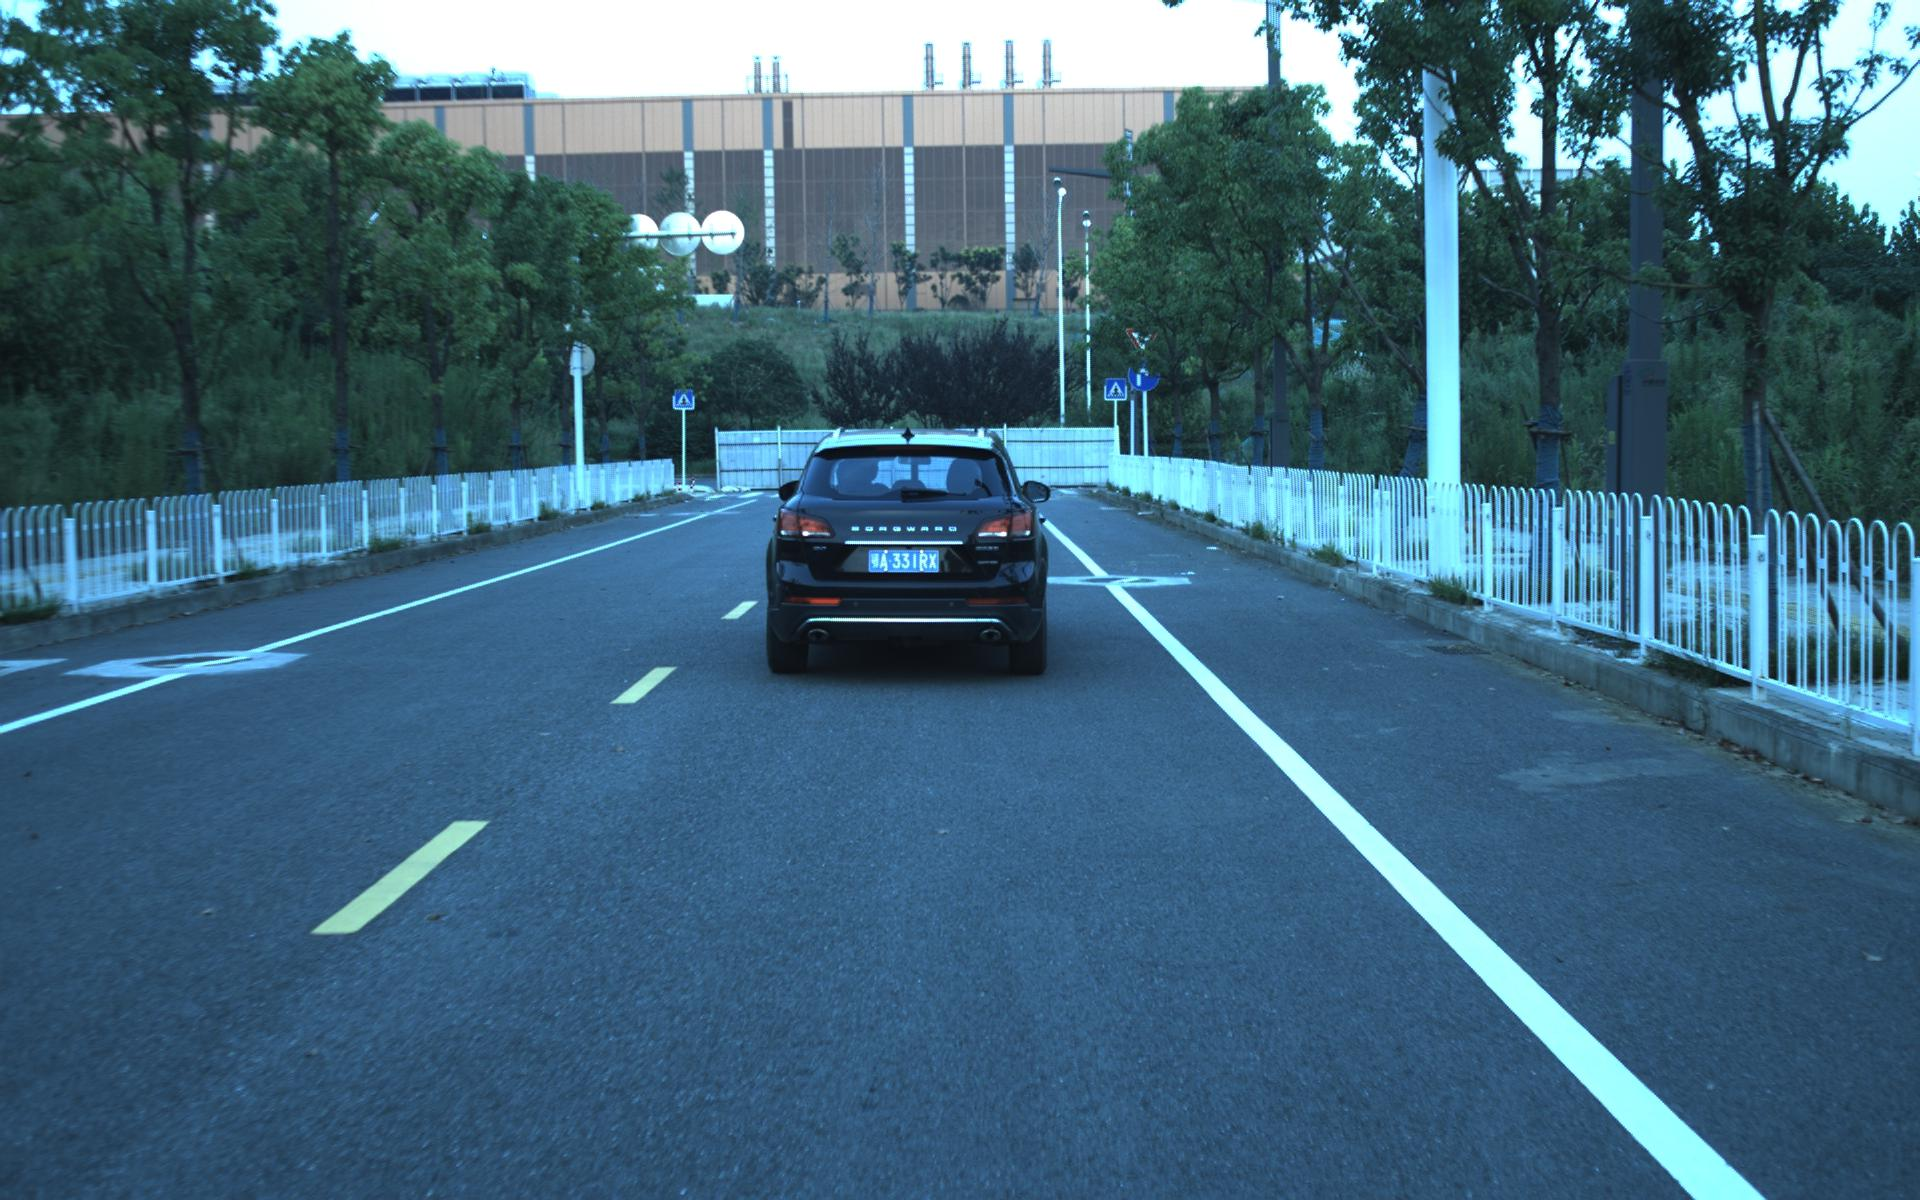Car: (763, 422, 1051, 677)
